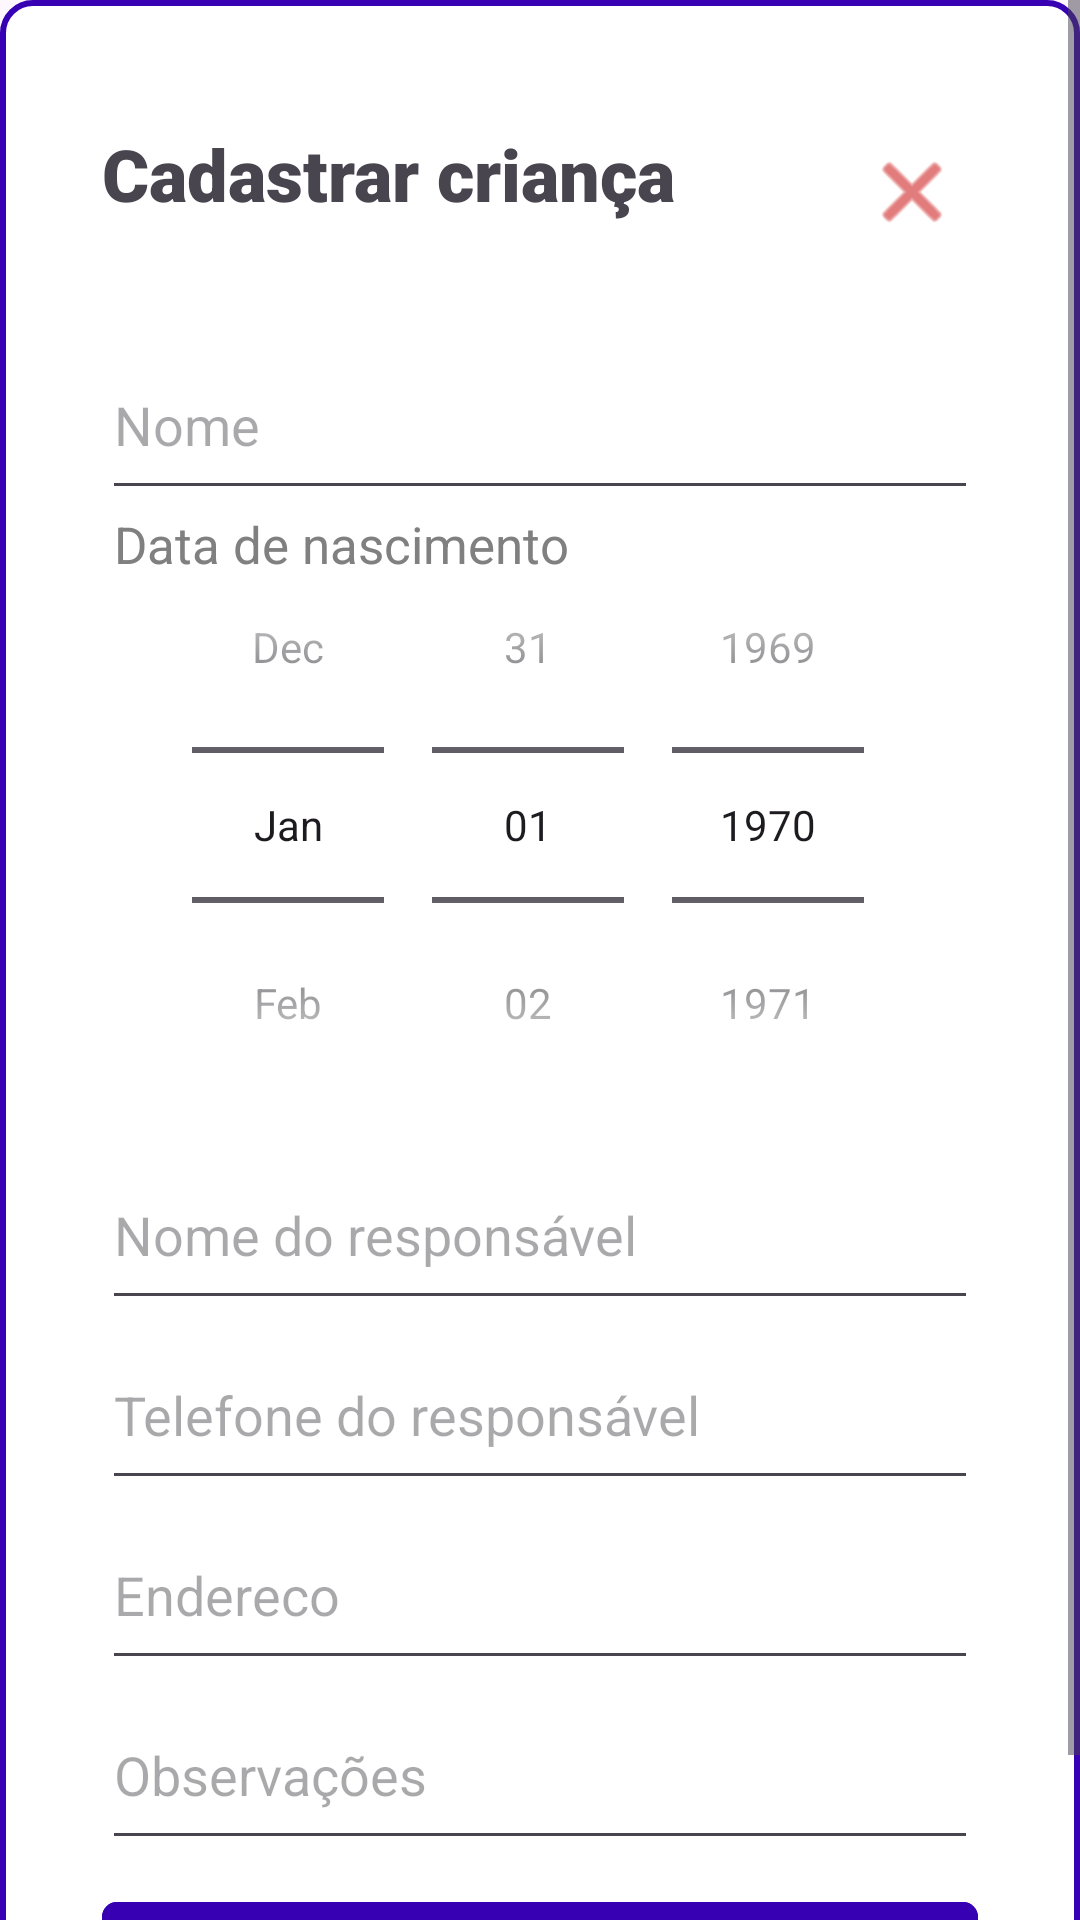

Locate icon controls on the screen. Image size 1080px x 1920px, boxes as (x1, y1, x2, y2).
close clear cancel: (882, 162, 942, 222)
